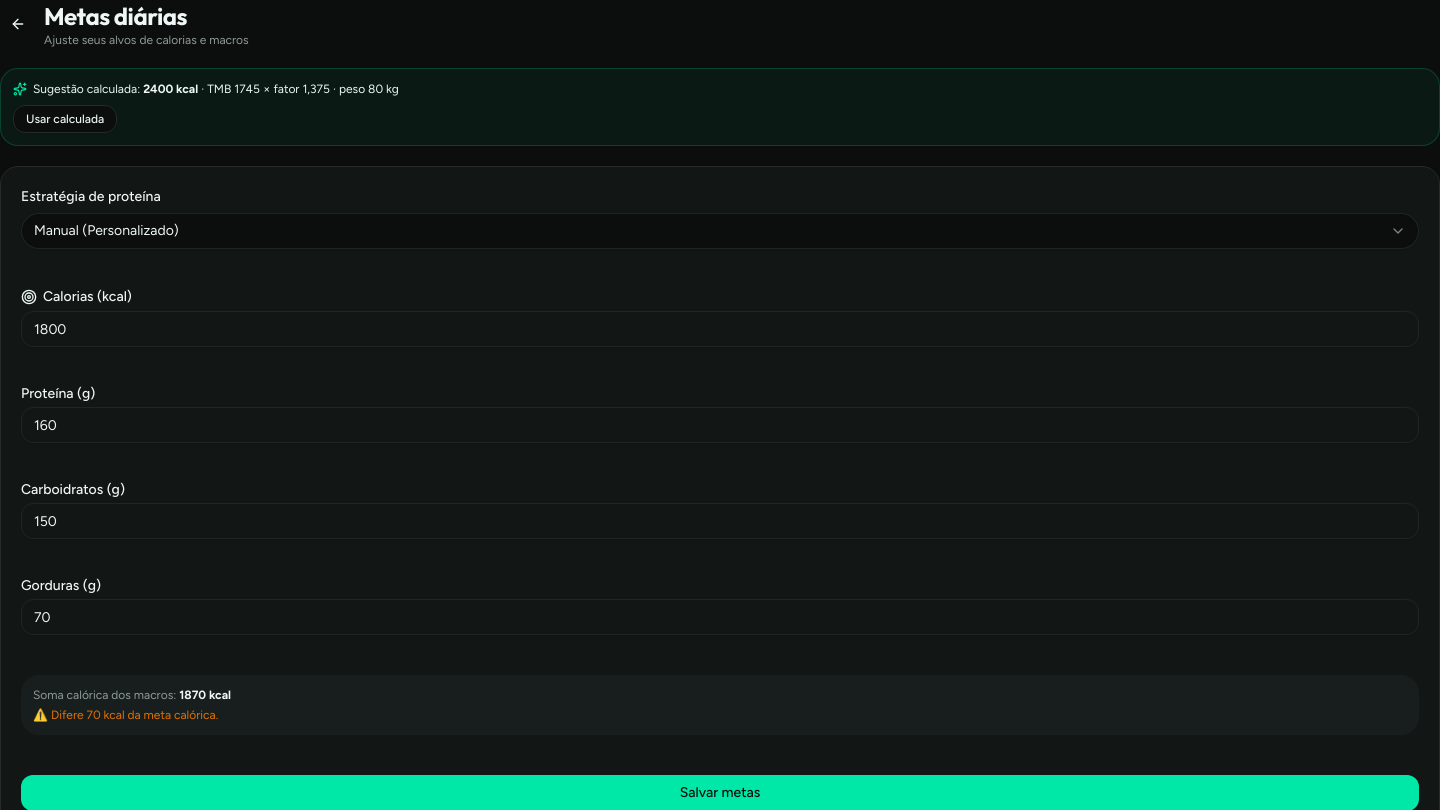
Test case: GoalsPage — integração (supabase mock + calculateTdee mock) › botão 'Usar calculada' preenche os campos com a sugestão
This screenshot has width=1440, height=810.
Expected: the number field showing "1800" below "Calorias (kcal)" is shown, [21,311,1419,347]
Click the button "Usar calculada" at (65, 119), box [13,105,117,133]
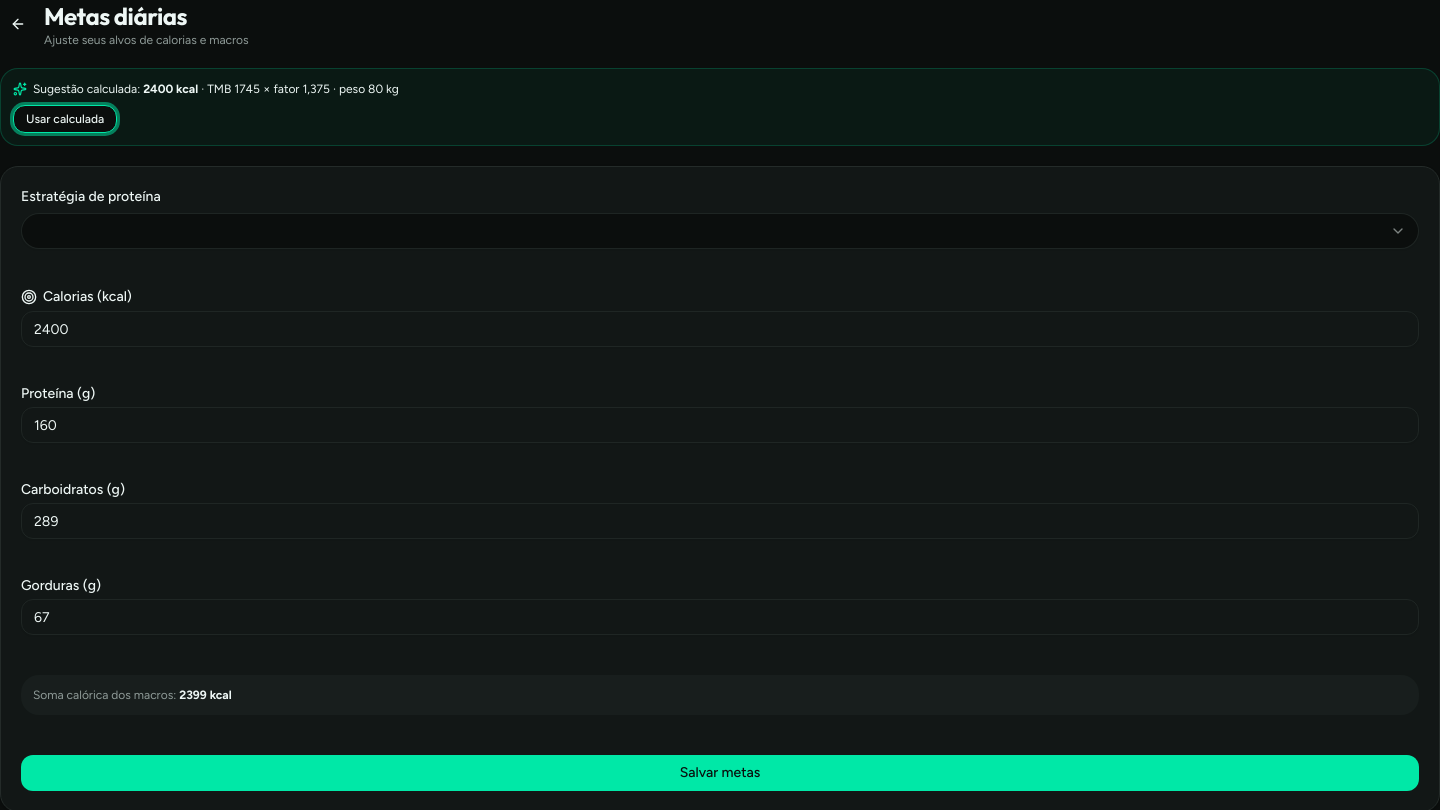
Expected: the number field showing "2400" below "Calorias (kcal)" is shown, [21,311,1419,347]
Expected: the number field showing "67" below "Gorduras (g)" is shown, [21,599,1419,635]
Expected: the number field showing "289" below "Carboidratos (g)" is shown, [21,503,1419,539]
